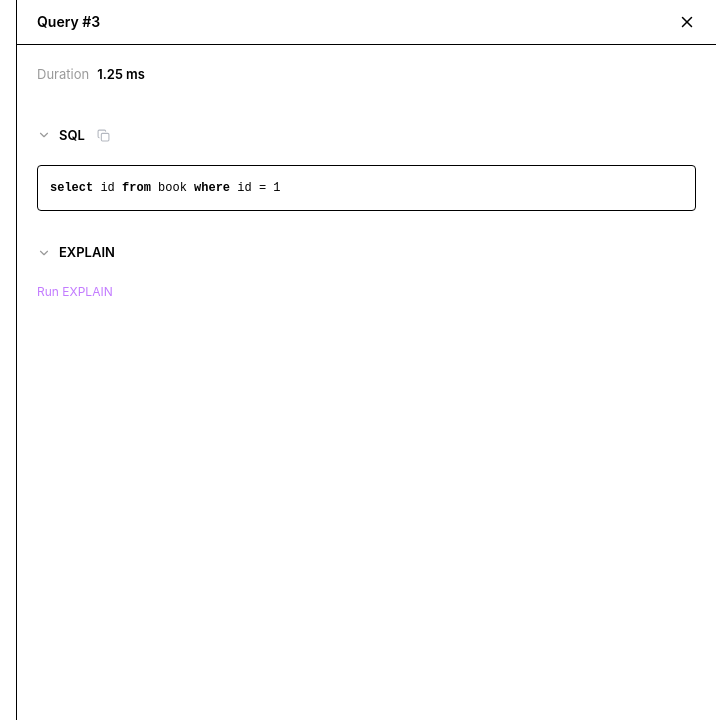
it: QueryDetail EXPLAIN › shows the reason the server refused and lets it be asked again
Click the button "Run EXPLAIN" at (75, 292), box top-left (37, 282), bottom-right (113, 300)
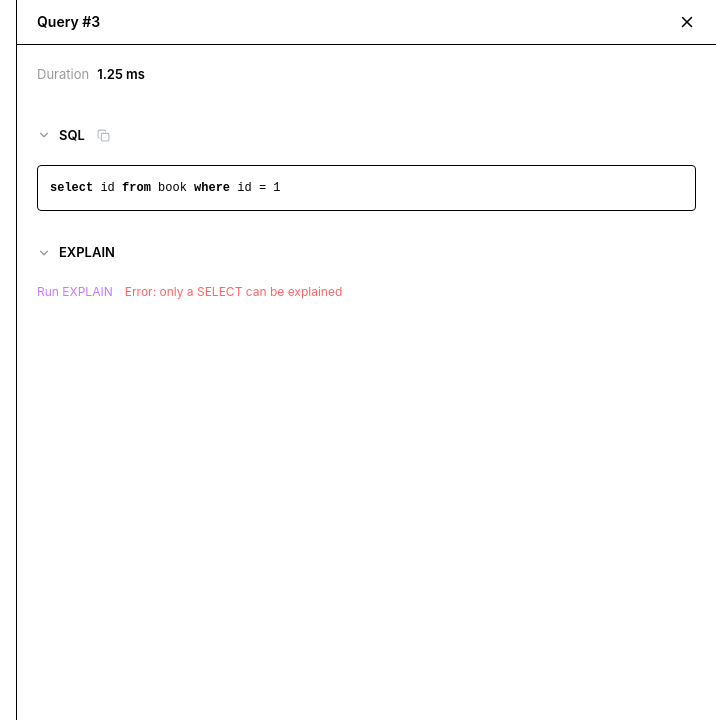
Expected: the text "Error: only a SELECT can be explained" is shown, top-left (125, 282), bottom-right (342, 300)
